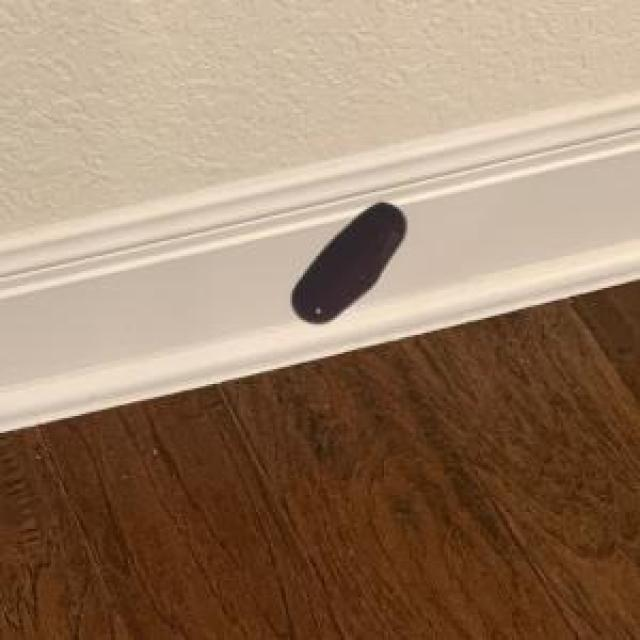DayZinc: (279, 192, 418, 338)
